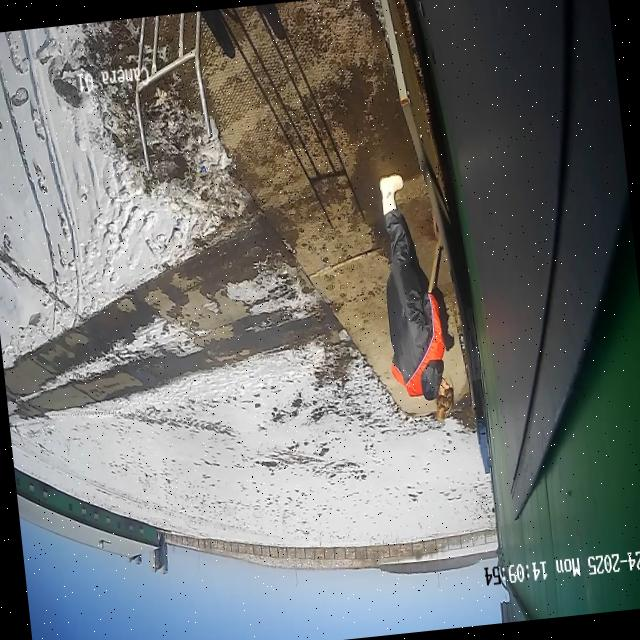Red uniform: (373, 202, 452, 404)
